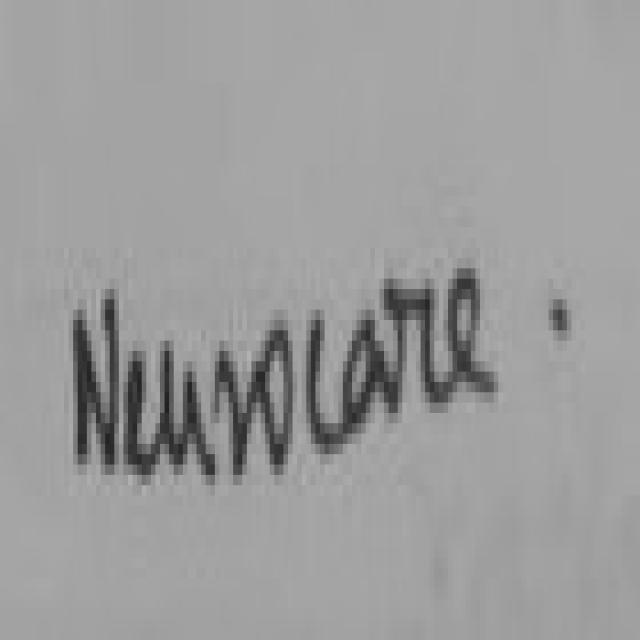N: (73, 299, 119, 475)
a: (343, 320, 403, 434)
c: (311, 320, 347, 454)
e: (453, 279, 498, 392), (128, 361, 160, 475)
o: (265, 330, 293, 470)
r: (389, 289, 453, 403), (219, 351, 265, 470)
u: (165, 351, 219, 485)
